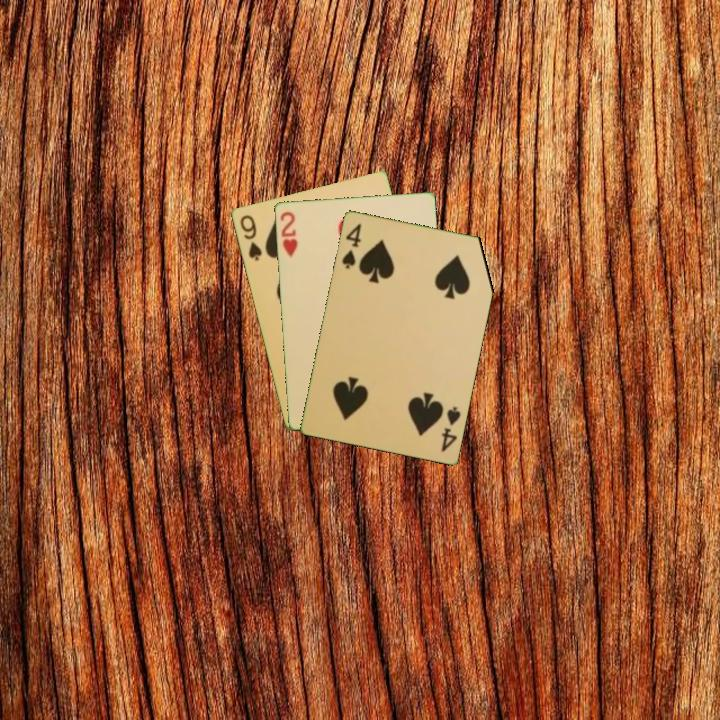2h: (276, 208, 300, 260)
4s: (338, 219, 364, 271), (437, 403, 463, 454)
9s: (236, 211, 264, 264)
